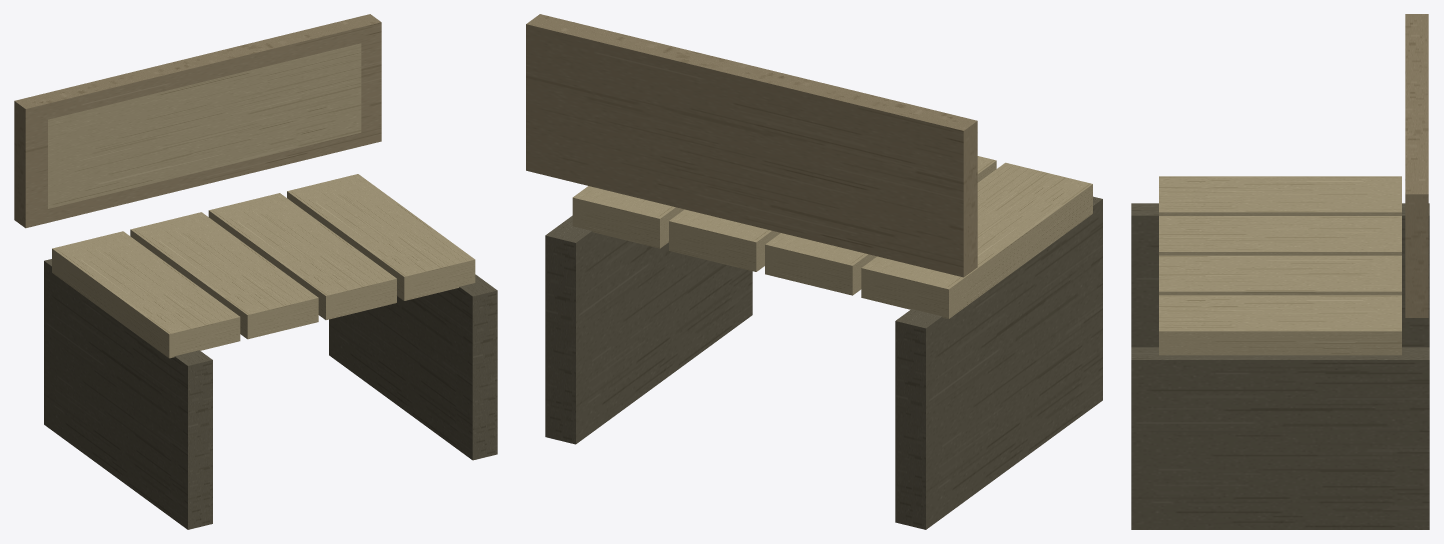
File: Dolly_BenchWithoutTimetable.obj
3 views of the same model, side by side, from view 1: azimuth 30°, elevation 25°; view 2: azimuth 150°, elevation 25°; view 3: azimuth 270°, elevation 25° (orthographic). The views are drawn at different scales.
Parts seen in each view (by area): view 1: Dolly_BenchWithoutTimetable; view 2: Dolly_BenchWithoutTimetable; view 3: Dolly_BenchWithoutTimetable.
Boxes of the visible parts, x1,y1,x2,y2 form: Dolly_BenchWithoutTimetable: (14, 14, 497, 529); Dolly_BenchWithoutTimetable: (526, 14, 1102, 529); Dolly_BenchWithoutTimetable: (1131, 14, 1429, 529).
Bounding box in the file's own units: 1 × 0.89 × 0.7.
Materials: 1 (1 with a texture image).
